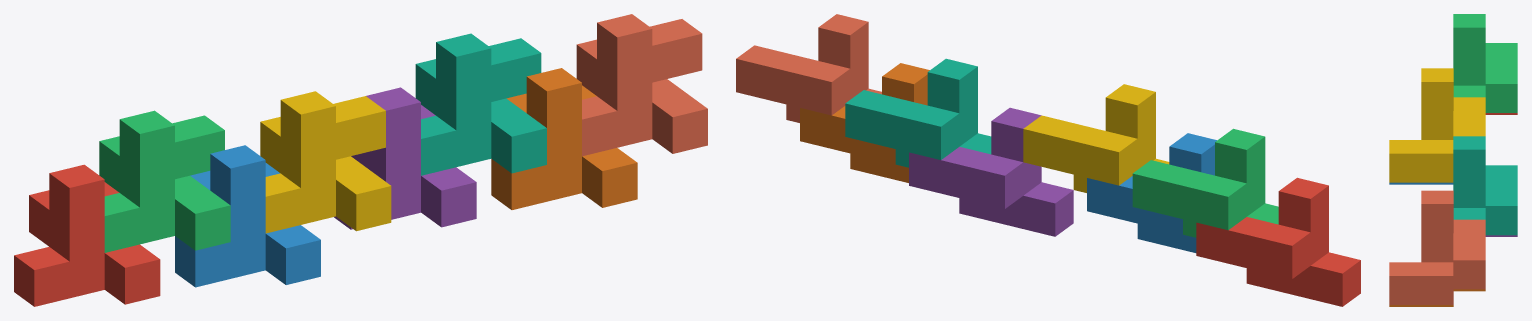
Rendered from tiling.obj.
3 views of the same model, side by side, from view 1: azimuth 30°, elevation 25°; view 2: azimuth 150°, elevation 25°; view 3: azimuth 270°, elevation 25° (orthographic). The views are drawn at different scales.
Visible parts, largest first — view 1: copy_1_domain_4, copy_1_domain_8, copy_1_domain_3, copy_1_domain_7, copy_1_domain_1, copy_1_domain_2, copy_1_domain_6, copy_1_domain_5; view 2: copy_1_domain_1, copy_1_domain_5, copy_1_domain_3, copy_1_domain_7, copy_1_domain_4, copy_1_domain_8, copy_1_domain_2, copy_1_domain_6; view 3: copy_1_domain_8, copy_1_domain_4, copy_1_domain_7, copy_1_domain_3, copy_1_domain_6, copy_1_domain_2.
Boxes of the visible parts, bbox=[...] form: copy_1_domain_4: bbox=[260, 91, 391, 233]; copy_1_domain_8: bbox=[576, 14, 707, 156]; copy_1_domain_3: bbox=[99, 110, 230, 252]; copy_1_domain_7: bbox=[415, 33, 546, 175]; copy_1_domain_1: bbox=[14, 164, 160, 306]; copy_1_domain_2: bbox=[175, 145, 320, 287]; copy_1_domain_6: bbox=[491, 68, 637, 209]; copy_1_domain_5: bbox=[334, 87, 476, 229]; copy_1_domain_1: bbox=[1196, 177, 1360, 306]; copy_1_domain_5: bbox=[909, 107, 1073, 236]; copy_1_domain_3: bbox=[1132, 128, 1278, 237]; copy_1_domain_7: bbox=[845, 58, 991, 167]; copy_1_domain_4: bbox=[1023, 84, 1169, 192]; copy_1_domain_8: bbox=[736, 14, 881, 122]; copy_1_domain_2: bbox=[1087, 133, 1216, 252]; copy_1_domain_6: bbox=[800, 63, 929, 182]; copy_1_domain_8: bbox=[1389, 190, 1485, 304]; copy_1_domain_4: bbox=[1389, 68, 1485, 182]; copy_1_domain_7: bbox=[1453, 136, 1517, 235]; copy_1_domain_3: bbox=[1453, 14, 1517, 112]; copy_1_domain_6: bbox=[1389, 289, 1485, 306]; copy_1_domain_2: bbox=[1389, 182, 1453, 184].
Size of the model in its own units: 19 by 4 by 4.
